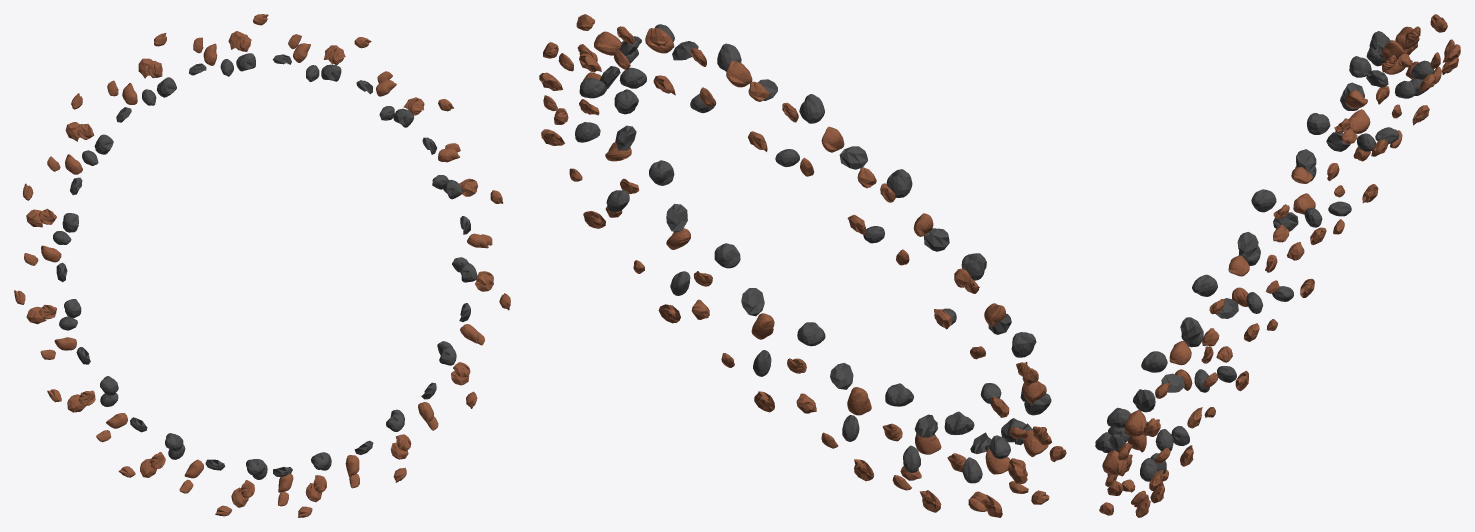
Rendered from AsteroidCircle.glb.
3 views of the same model, side by side, from view 1: azimuth 30°, elevation 25°; view 2: azimuth 150°, elevation 25°; view 3: azimuth 270°, elevation 25° (orthographic). The views are drawn at different scales.
Visible parts, largest first — view 1: AsteroidCircle; view 2: AsteroidCircle; view 3: AsteroidCircle.
Part boxes in pixels (x1,y1,x2,y2): AsteroidCircle: [14, 14, 510, 517]; AsteroidCircle: [539, 14, 1066, 517]; AsteroidCircle: [1095, 14, 1460, 517].
Bounding box in the file's own units: 44.35 × 40.28 × 27.81.
1 material, 1 textured.
